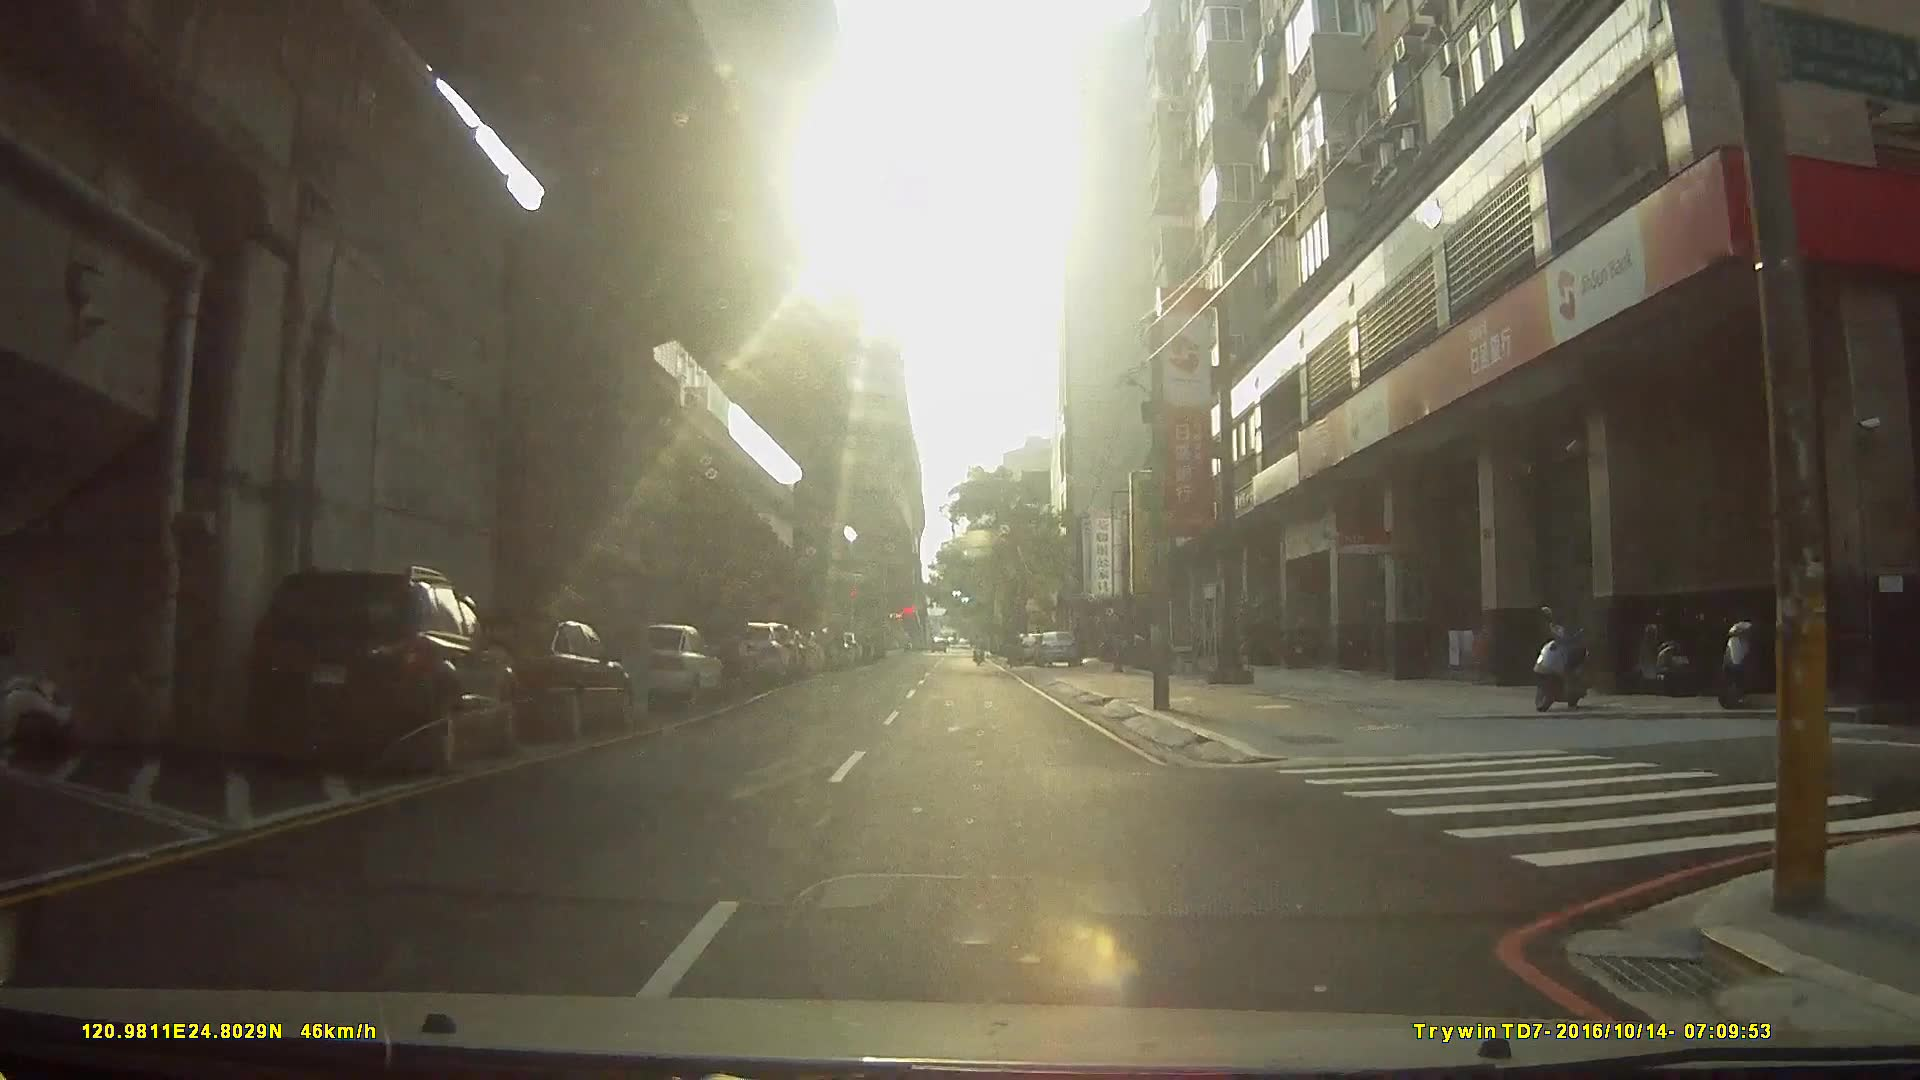vehicle: (243, 564, 520, 777), (448, 611, 636, 741), (618, 620, 727, 713), (659, 620, 794, 670), (1030, 625, 1081, 665)
